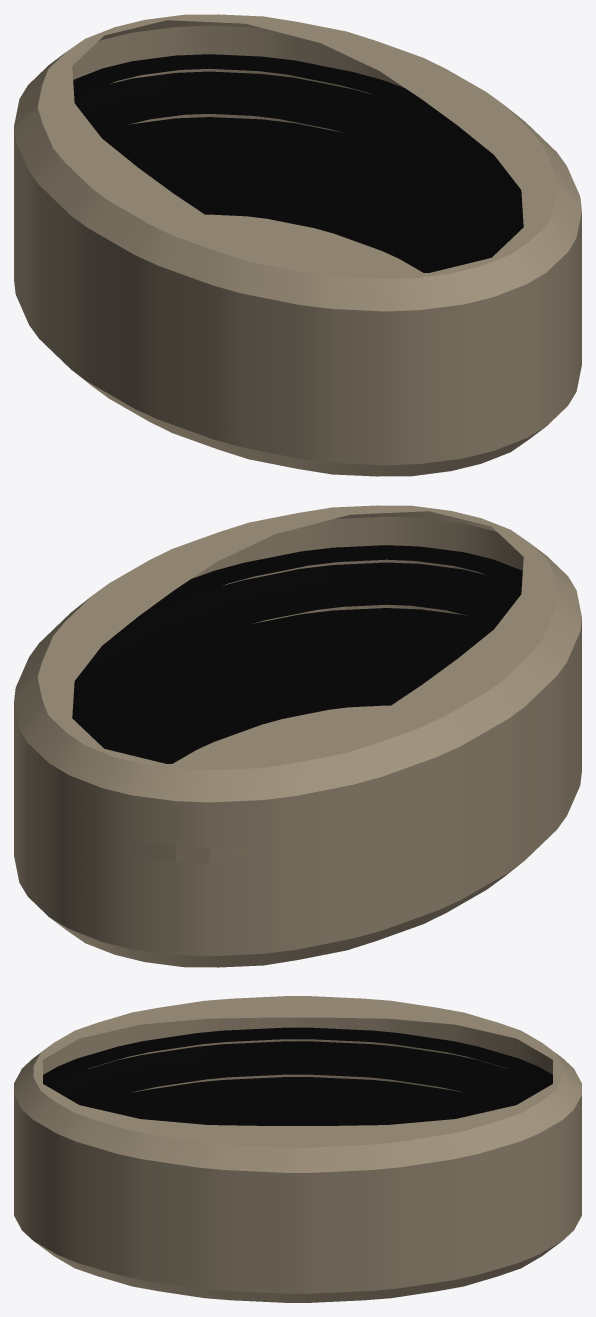
File: stadium.glb
3 views of the same model, one above another, from view 1: azimuth 30°, elevation 25°; view 2: azimuth 150°, elevation 25°; view 3: azimuth 270°, elevation 25° (orthographic). The views are drawn at different scales.
Parts seen in each view (by area): view 1: pCylinder1; view 2: pCylinder1; view 3: pCylinder1.
Part boxes in pixels (box(x1,y1,x2,y2)): pCylinder1: box(14, 14, 581, 476); pCylinder1: box(14, 505, 581, 967); pCylinder1: box(14, 996, 581, 1302).
Size of the model in its own units: 0.0842 by 0.0364 by 0.1206.
